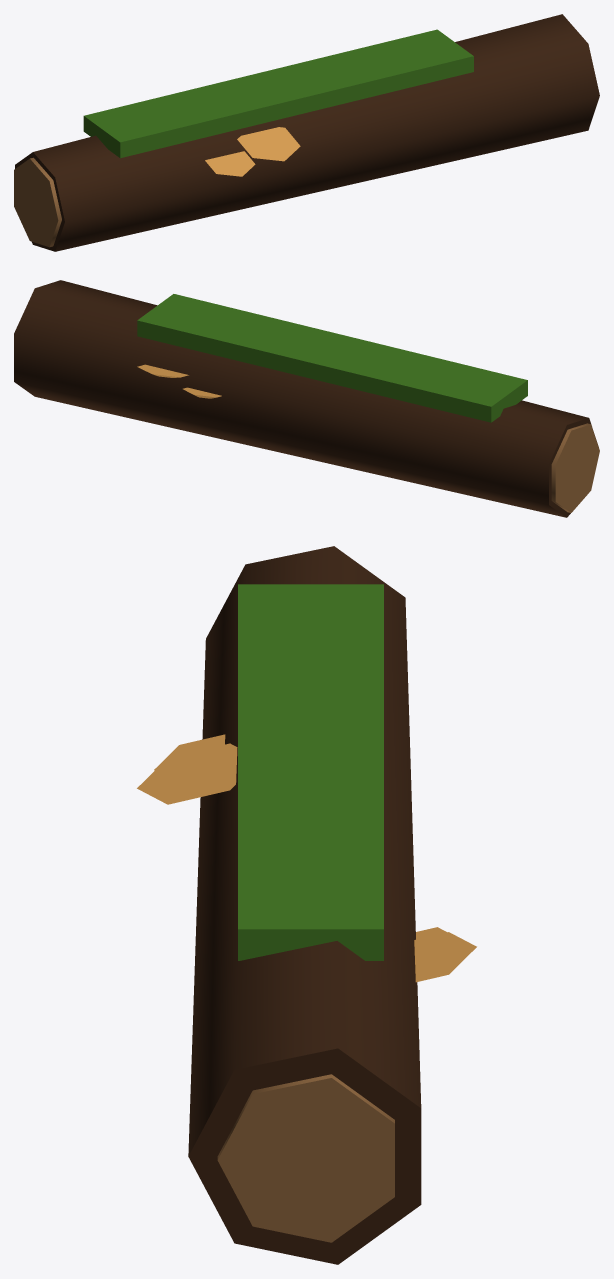
Rendered from log_fallen.glb.
The picture shows the model from 3 angles, top to bottom: view 1: azimuth 30°, elevation 25°; view 2: azimuth 150°, elevation 25°; view 3: azimuth 270°, elevation 25°; orthographic projection. The views are drawn at different scales.
Visible parts, largest first — view 1: FallenLog; view 2: FallenLog; view 3: FallenLog.
Boxes of the visible parts, x1,y1,x2,y2 form: FallenLog: [14, 14, 599, 251]; FallenLog: [14, 280, 599, 517]; FallenLog: [137, 546, 476, 1264].
Size of the model in its own units: 4.26 by 0.8495 by 1.17.
